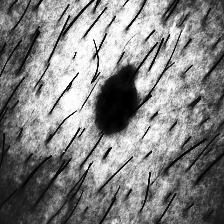Benign Marking or Mole: (96, 61, 139, 134)
